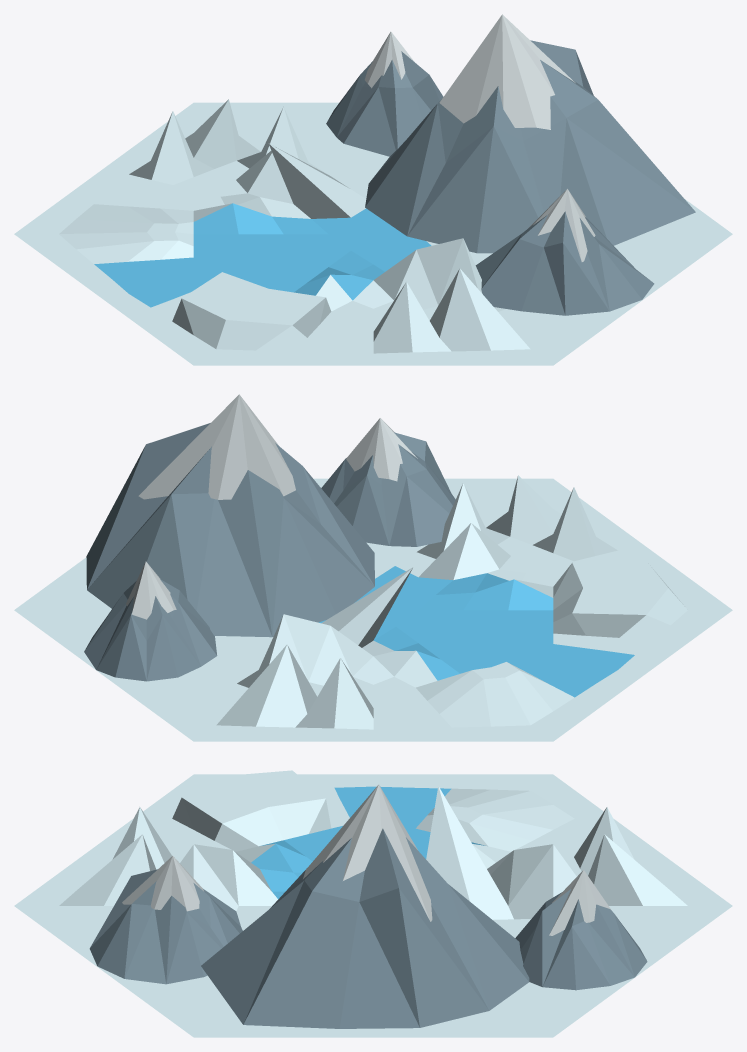
File: glacier.glb
The picture shows the model from 3 angles, top to bottom: view 1: azimuth 30°, elevation 25°; view 2: azimuth 150°, elevation 25°; view 3: azimuth 270°, elevation 25°; orthographic projection.
Parts seen in each view (by area): view 1: base.005, group1104003827, group1104003827.002, group1104003827.001; view 2: base.005, group1104003827, group1104003827.002, group1104003827.001; view 3: base.005, group1104003827, group1104003827.002, group1104003827.001.
Boxes of the visible parts, bbox=[...] form: base.005: bbox=[14, 99, 732, 365]; group1104003827: bbox=[365, 14, 695, 253]; group1104003827.002: bbox=[475, 189, 654, 315]; group1104003827.001: bbox=[326, 31, 443, 156]; base.005: bbox=[14, 475, 732, 741]; group1104003827: bbox=[86, 394, 374, 637]; group1104003827.002: bbox=[321, 418, 455, 546]; group1104003827.001: bbox=[84, 561, 217, 681]; base.005: bbox=[14, 770, 732, 1037]; group1104003827: bbox=[201, 784, 529, 1028]; group1104003827.002: bbox=[89, 856, 242, 984]; group1104003827.001: bbox=[515, 870, 647, 990].
Bounding box in the file's own units: 0.866 × 0.2853 × 1.
